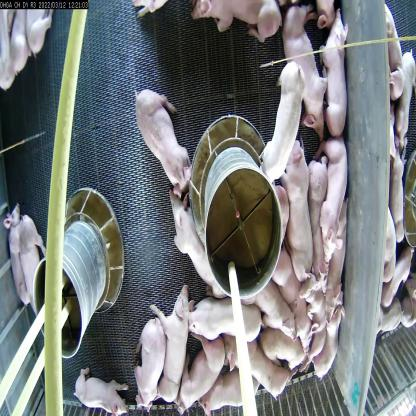Pig: (133, 84, 195, 190), (282, 0, 330, 135), (168, 205, 230, 296), (224, 327, 290, 410), (260, 52, 298, 184), (182, 293, 272, 343), (152, 287, 188, 409), (318, 8, 352, 134), (317, 134, 351, 259), (284, 137, 312, 280), (124, 318, 164, 414), (176, 339, 225, 411), (201, 363, 268, 415), (1, 200, 32, 307), (311, 298, 345, 388), (18, 219, 50, 313), (72, 365, 130, 416), (249, 272, 292, 338), (255, 314, 308, 366), (305, 157, 327, 279), (302, 271, 329, 368)
